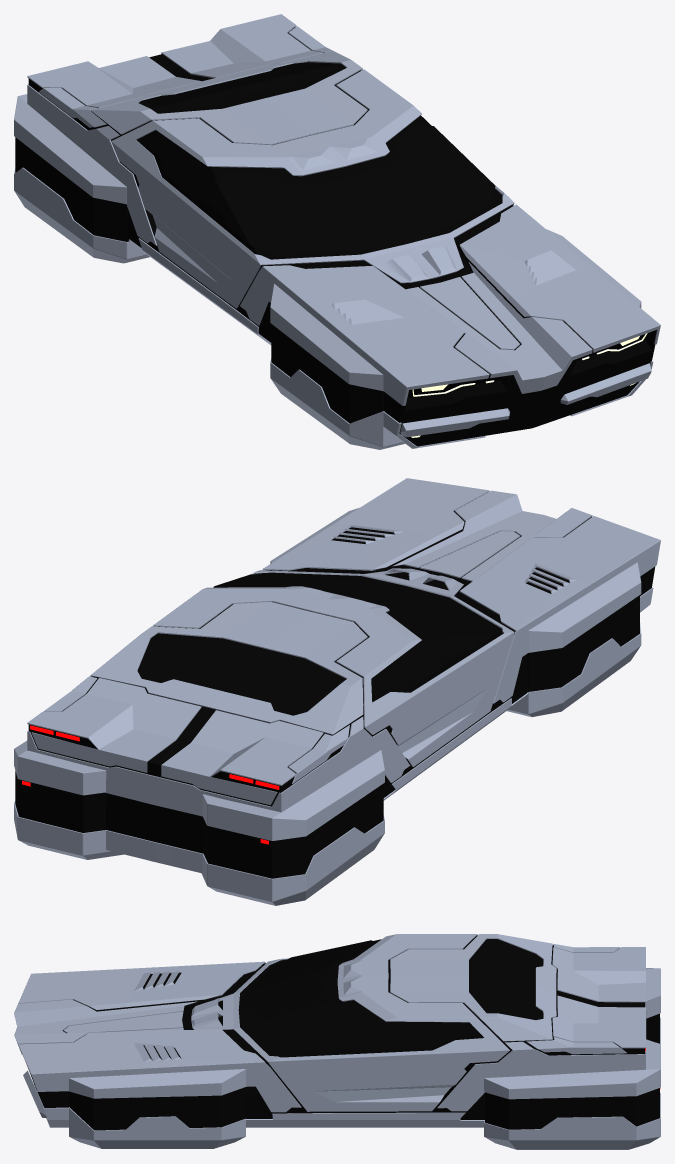
File: free_sci-fi_vehicle_007_-_public_domain_cc0.glb
The picture shows the model from 3 angles, top to bottom: view 1: azimuth 30°, elevation 25°; view 2: azimuth 150°, elevation 25°; view 3: azimuth 270°, elevation 25°; orthographic projection. The views are drawn at different scales.
Parts seen in each view (by area): view 1: Cube.001, Cube.005, Cube, Cube.006, Cube.008, Cube.004, Cube.003, Cube.002, Cube.007; view 2: Cube.001, Cube, Cube.005, Cube.008, Cube.004, Cube.006, Cube.003, Cube.007, Cube.002; view 3: Cube.001, Cube.005, Cube, Cube.006, Cube.008, Cube.004, Cube.003, Cube.002, Cube.007.
Boxes of the visible parts, <box> form: Cube.001: <box>27,14,651,437</box>; Cube.005: <box>39,26,660,405</box>; Cube: <box>15,27,656,446</box>; Cube.006: <box>143,115,495,254</box>; Cube.008: <box>27,84,653,448</box>; Cube.004: <box>14,94,126,204</box>; Cube.003: <box>14,167,149,263</box>; Cube.002: <box>270,358,404,449</box>; Cube.007: <box>143,62,340,111</box>; Cube.001: <box>27,490,641,805</box>; Cube: <box>15,505,655,878</box>; Cube.005: <box>43,478,660,783</box>; Cube.008: <box>27,587,653,873</box>; Cube.004: <box>14,740,384,840</box>; Cube.006: <box>213,573,495,696</box>; Cube.003: <box>14,801,384,905</box>; Cube.007: <box>142,635,340,712</box>; Cube.002: <box>507,623,641,716</box>; Cube.001: <box>14,934,646,1118</box>; Cube.005: <box>18,944,626,1112</box>; Cube: <box>27,936,659,1130</box>; Cube.006: <box>246,940,476,1053</box>; Cube.008: <box>43,1018,646,1127</box>; Cube.004: <box>484,968,660,1099</box>; Cube.003: <box>484,1017,660,1149</box>; Cube.002: <box>69,1107,245,1148</box>; Cube.007: <box>474,940,539,1018</box>.
Size of the model in its own units: 2.78 by 1.34 by 6.59.
